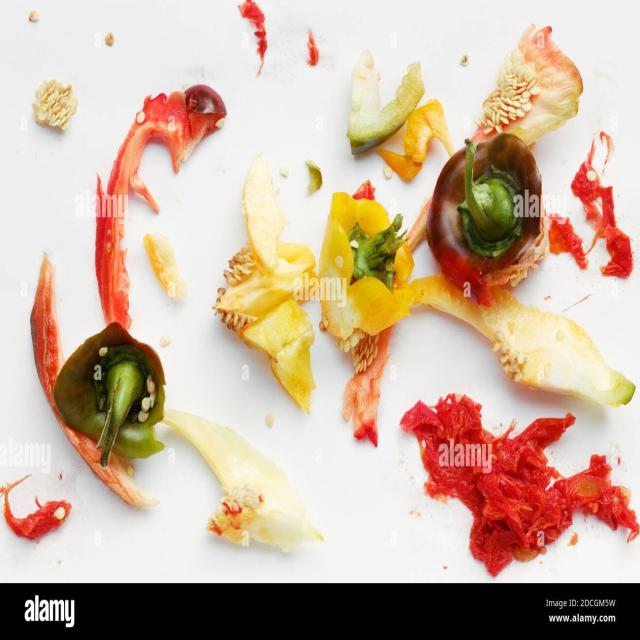Wet: (400, 391, 640, 578), (31, 253, 154, 522), (412, 275, 638, 407), (212, 151, 320, 419), (170, 405, 328, 561), (426, 133, 548, 299), (52, 323, 168, 466), (464, 23, 585, 145), (321, 191, 419, 339), (344, 37, 427, 155), (339, 318, 395, 450), (0, 471, 73, 545), (143, 228, 190, 304), (28, 77, 81, 138)
